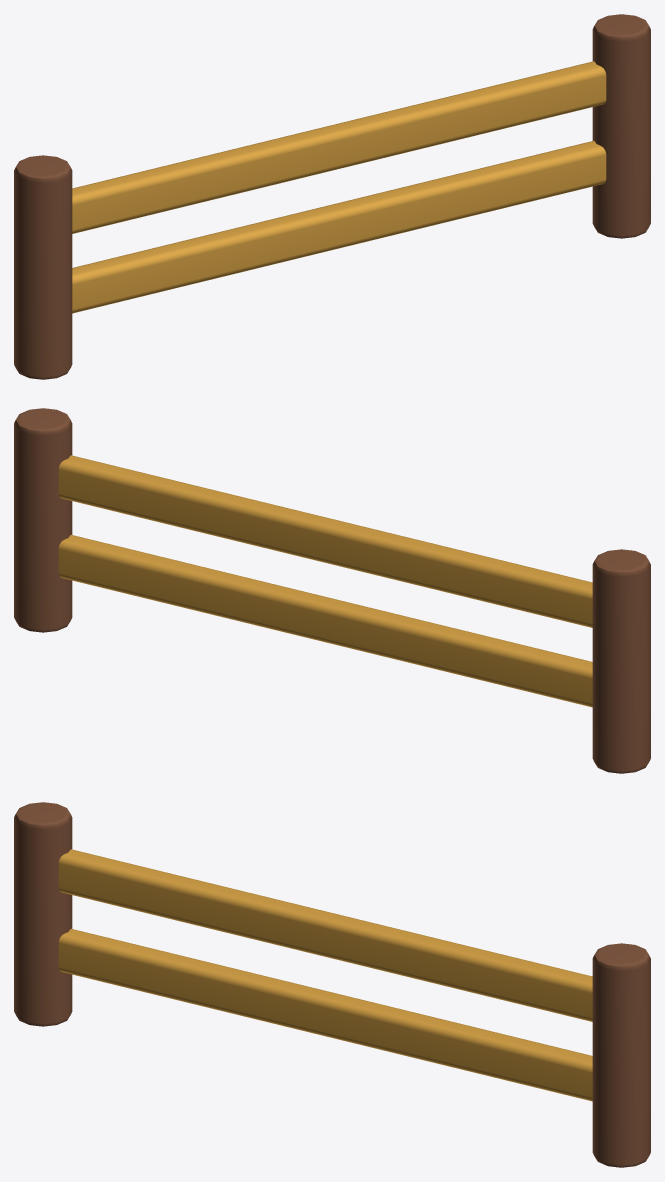
The model's file is prop_fence.glb.
The picture shows the model from 3 angles, top to bottom: view 1: azimuth 30°, elevation 25°; view 2: azimuth 150°, elevation 25°; view 3: azimuth 330°, elevation 25°; orthographic projection.
Visible parts, largest first — view 1: fence_rail1, fence_rail2, fence_post1, fence_post2; view 2: fence_rail1, fence_rail2, fence_post1, fence_post2; view 3: fence_rail1, fence_rail2, fence_post2, fence_post1.
Boxes of the visible parts, bbox=[...] form: fence_rail1: bbox=[72, 61, 606, 233]; fence_rail2: bbox=[72, 140, 606, 313]; fence_post1: bbox=[14, 155, 72, 379]; fence_post2: bbox=[592, 14, 650, 238]; fence_rail1: bbox=[58, 455, 592, 627]; fence_rail2: bbox=[58, 534, 592, 707]; fence_post1: bbox=[592, 549, 650, 773]; fence_post2: bbox=[14, 408, 72, 632]; fence_rail1: bbox=[58, 849, 592, 1021]; fence_rail2: bbox=[58, 928, 592, 1101]; fence_post2: bbox=[592, 943, 650, 1167]; fence_post1: bbox=[14, 802, 72, 1026].
Size of the model in its own units: 1.74 by 0.54 by 0.14.
